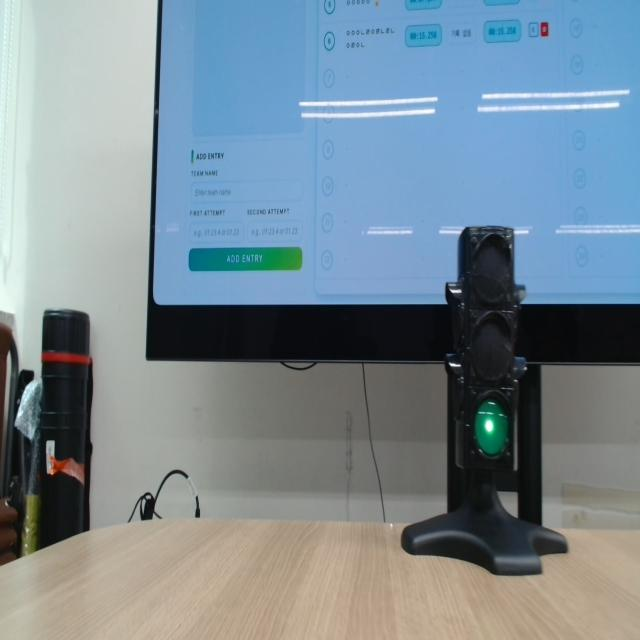green_light: (475, 399, 508, 456)
